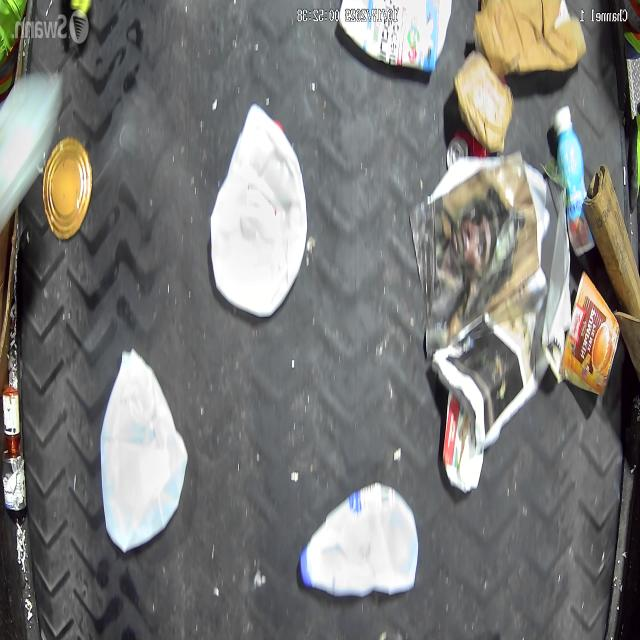can: (44, 138, 92, 241), (2, 450, 25, 512)
milk_jug: (210, 105, 307, 317), (101, 349, 188, 551), (300, 483, 418, 596)
